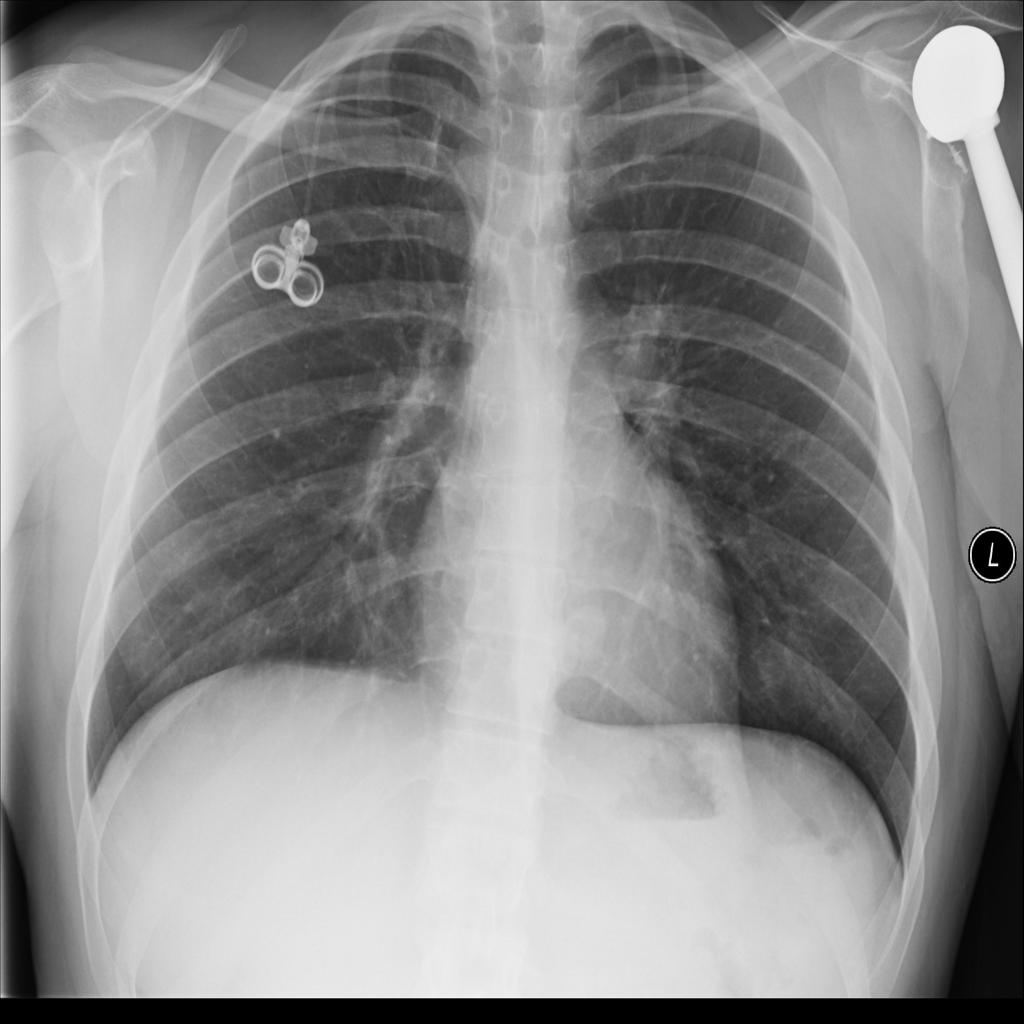nodule: (553, 583, 617, 668)
